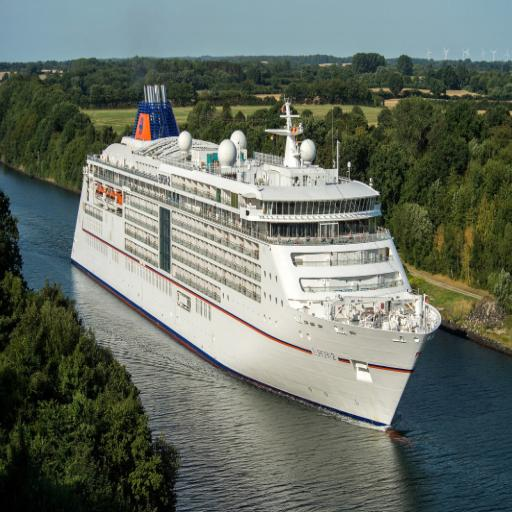cruises: (69, 68, 443, 439)
